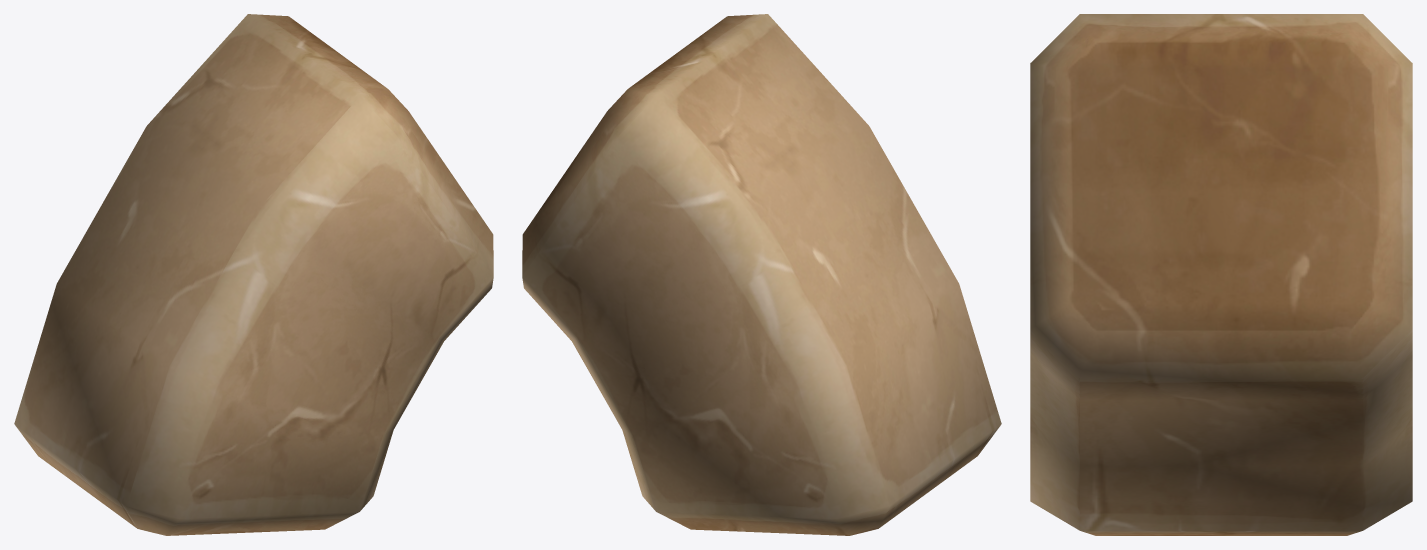
Rendered from DE_House_Mod_Part_59.fbx.
The picture shows the model from 3 angles, left to right: view 1: azimuth 30°, elevation 25°; view 2: azimuth 150°, elevation 25°; view 3: azimuth 270°, elevation 25°; orthographic projection. The views are drawn at different scales.
Parts seen in each view (by area): view 1: DE_House_Mod_Part_59; view 2: DE_House_Mod_Part_59; view 3: DE_House_Mod_Part_59.
Part boxes in pixels (x1=…): DE_House_Mod_Part_59: x1=14, y1=14, x2=493, y2=535; DE_House_Mod_Part_59: x1=522, y1=14, x2=1001, y2=535; DE_House_Mod_Part_59: x1=1030, y1=14, x2=1412, y2=535.
Size of the model in its own units: 0.8416 by 0.917 by 0.5935.
